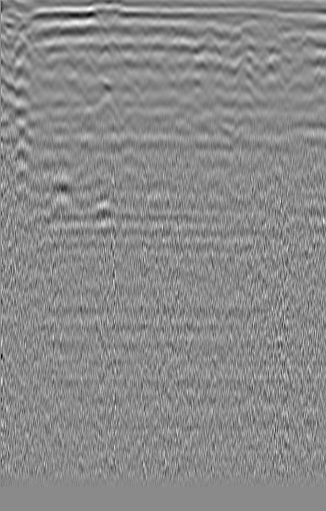가스: (89, 195, 118, 220)
상수: (7, 34, 37, 60)
오수: (294, 28, 317, 56)
우수: (144, 32, 169, 60)
